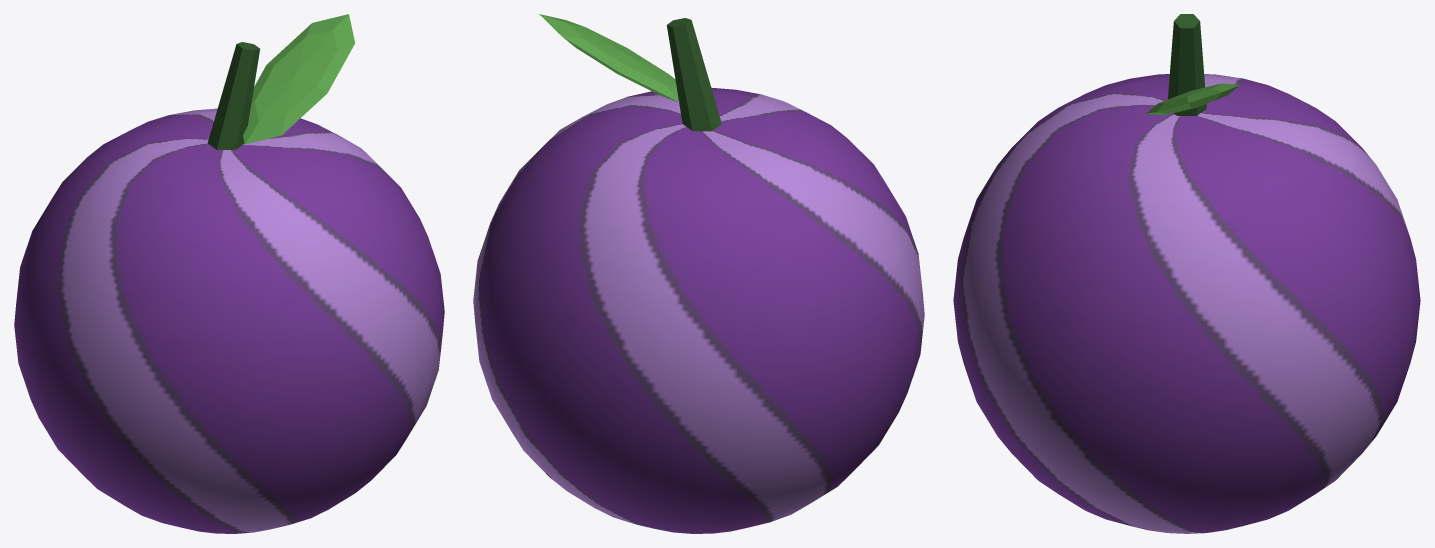
Rendered from Fruit_GomuGomu.fbx.
3 views of the same model, side by side, from view 1: azimuth 30°, elevation 25°; view 2: azimuth 150°, elevation 25°; view 3: azimuth 270°, elevation 25° (orthographic). The views are drawn at different scales.
Parts seen in each view (by area): view 1: Fruit_GomuGomu; view 2: Fruit_GomuGomu; view 3: Fruit_GomuGomu.
Boxes of the visible parts, x1,y1,x2,y2 form: Fruit_GomuGomu: (14,14,444,533); Fruit_GomuGomu: (473,14,924,533); Fruit_GomuGomu: (953,14,1420,533).
Bounding box in the file's own units: 1.6 × 1.9 × 1.6.
1 material, 1 textured.
